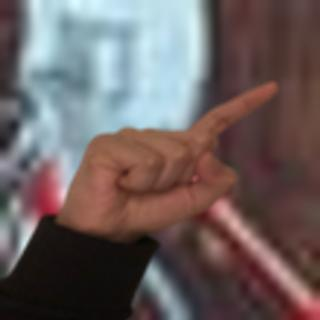WHY: (54, 74, 283, 241)
